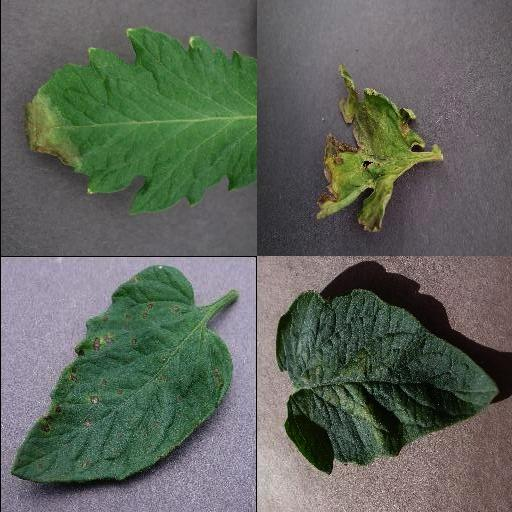Late Blight: (22, 26, 256, 218), (313, 63, 427, 233)
Septoria: (9, 263, 233, 482)
Spider Mites: (274, 289, 498, 475)
